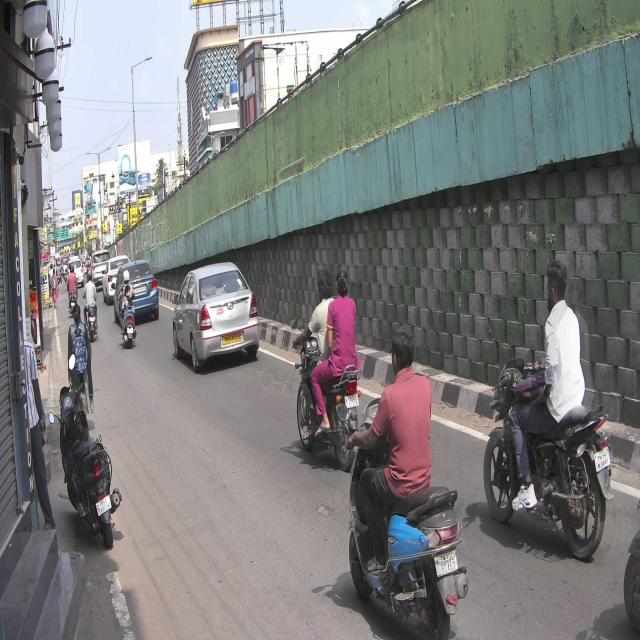single_rider: (485, 254, 612, 560), (347, 321, 468, 640)
